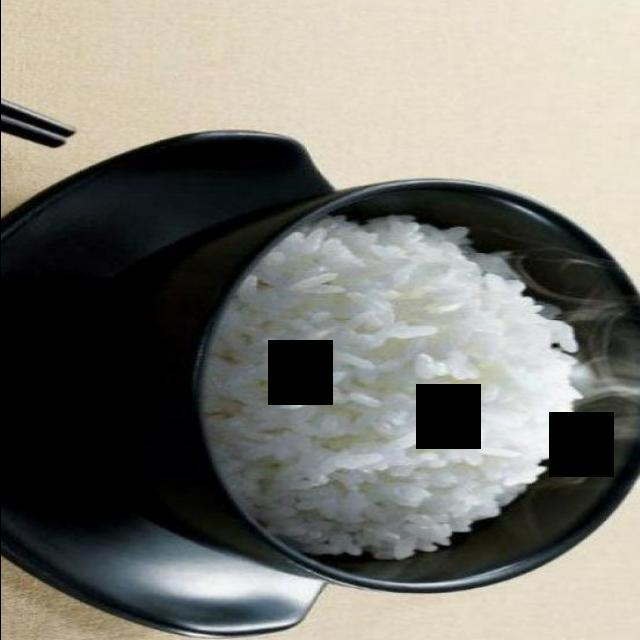rice: (204, 215, 594, 560)
